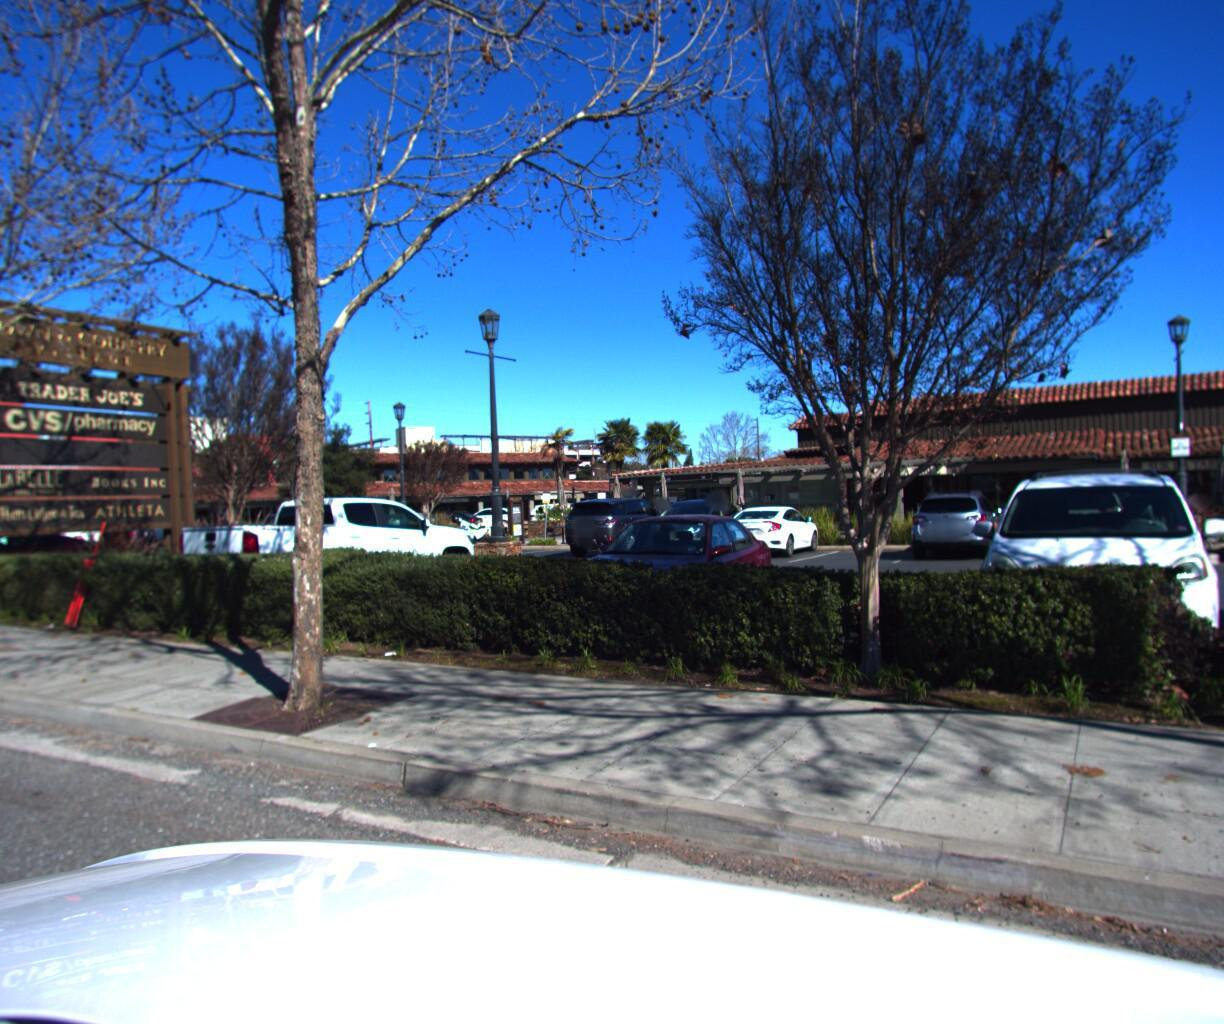car: (958, 434, 1224, 656), (159, 484, 488, 626), (555, 499, 796, 662), (0, 515, 143, 618), (0, 513, 27, 603)
